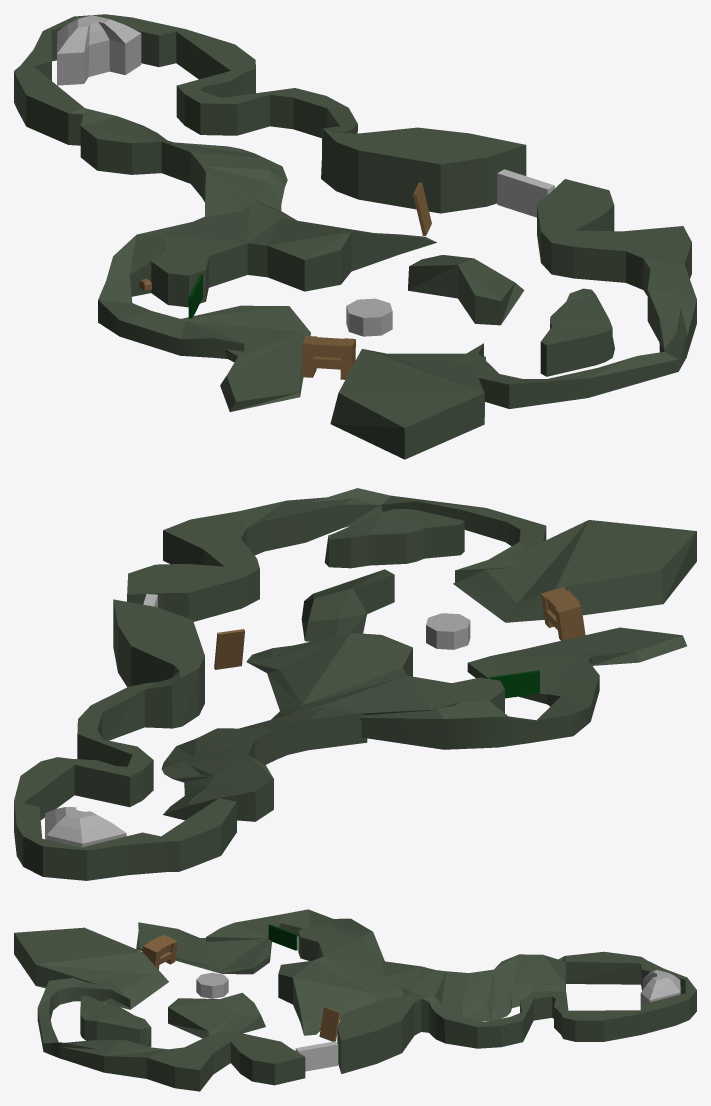
Rendered from Level1-final.fbx.
The picture shows the model from 3 angles, top to bottom: view 1: azimuth 30°, elevation 25°; view 2: azimuth 150°, elevation 25°; view 3: azimuth 270°, elevation 25°; orthographic projection. The views are drawn at different scales.
Visible parts, largest first — view 1: polySurface1, polySurface2, pCube44, pCube1, pCylinder1; view 2: polySurface1, polySurface2, pCube44, pCylinder1, pCube43, pCube38, pCube39; view 3: polySurface1, polySurface2, pCube44, pCube1, pCylinder1, pCube43, pCube38.
Part boxes in pixels (x1,y1,x2,y2): polySurface1: (14,14,696,459); polySurface2: (98,222,686,408); pCube44: (57,15,141,85); pCube1: (497,169,554,217); pCylinder1: (346,298,392,336); polySurface1: (14,497,696,880); polySurface2: (312,488,599,749); pCube44: (45,807,126,847); pCylinder1: (426,613,470,649); pCube43: (214,629,244,669); pCube38: (489,670,539,698); pCube39: (555,602,585,640); polySurface1: (14,922,696,1091); polySurface2: (37,909,384,1058); pCube44: (640,970,680,1009); pCube1: (295,1041,338,1071); pCylinder1: (196,972,228,998); pCube43: (319,1007,340,1041); pCube38: (268,924,297,950).
Bounding box in the file's own units: 122 × 12.92 × 211.
